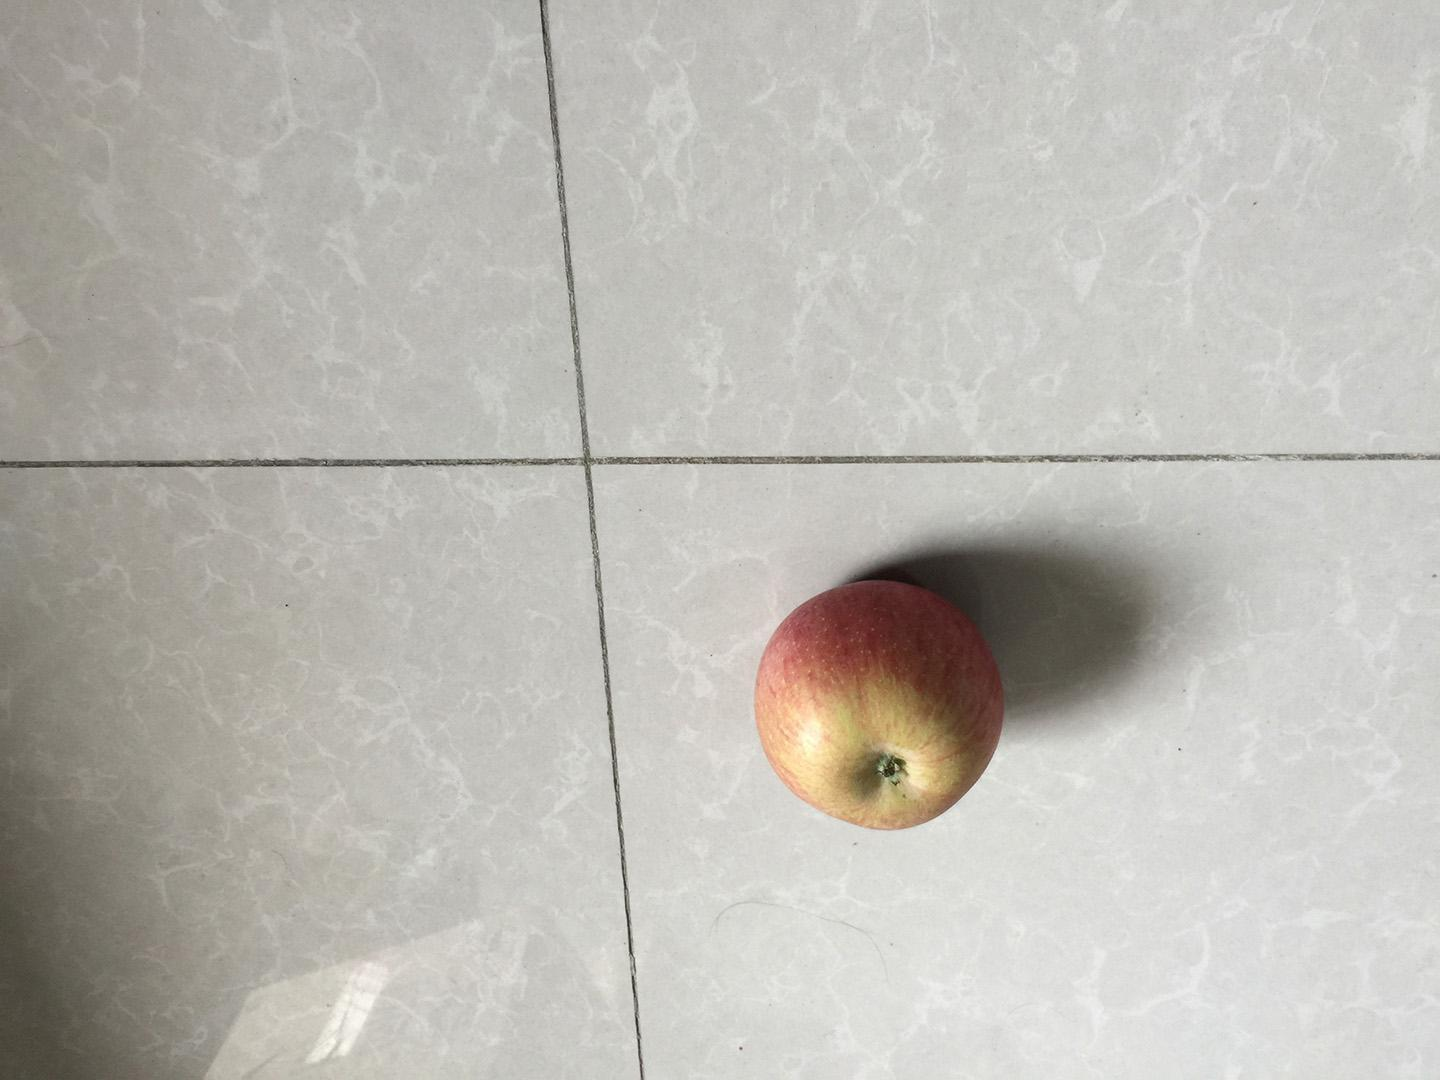apple: (749, 573, 1013, 834)
